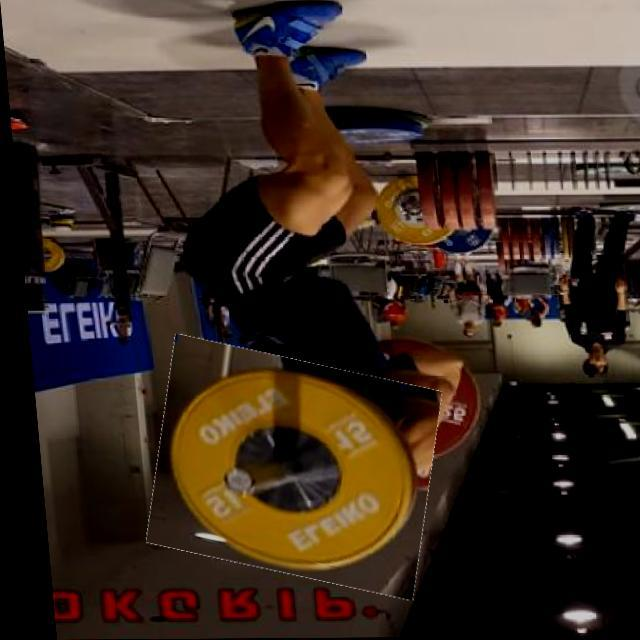barbell: (134, 347, 439, 590)
